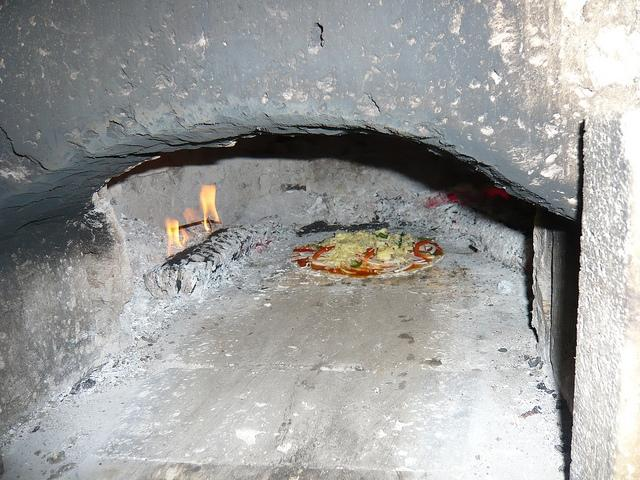onion: (386, 265, 407, 273), (424, 244, 436, 254), (306, 258, 324, 262), (326, 263, 336, 270), (426, 246, 432, 250)
